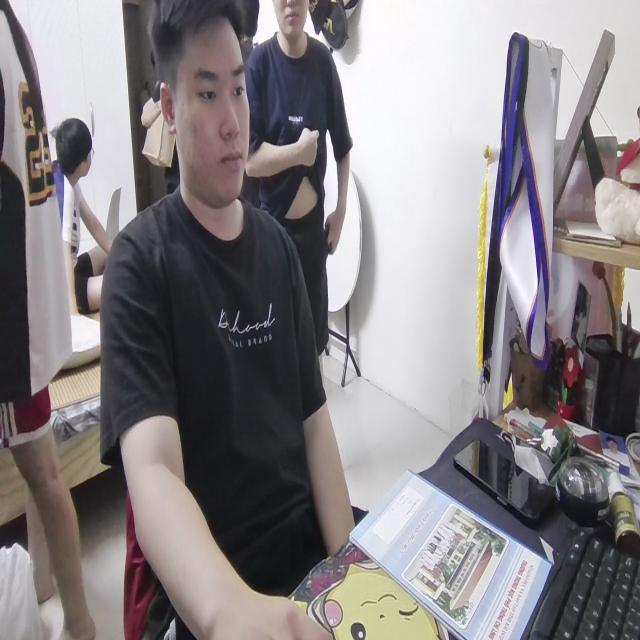book: (350, 459, 555, 640)
extra_person: (1, 0, 96, 640), (245, 0, 356, 349), (56, 114, 105, 314)
student: (99, 0, 354, 640)
